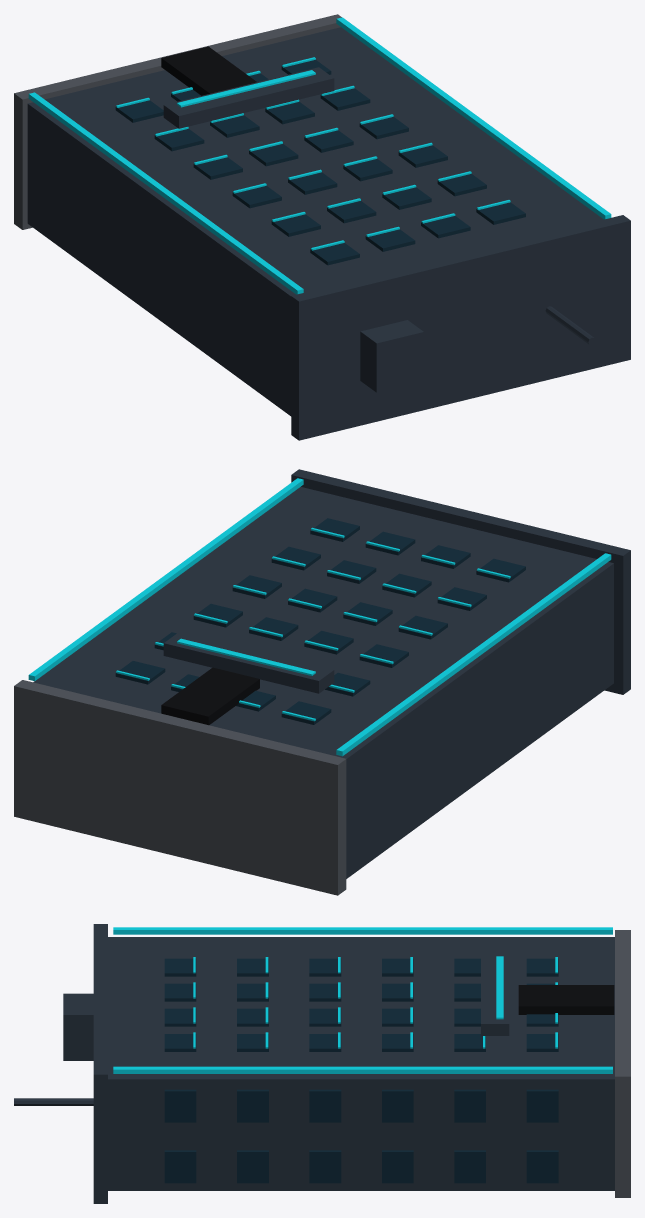
File: ENV_building_arcadia.obj
3 renders of one model, top to bottom at view 1: azimuth 30°, elevation 25°; view 2: azimuth 150°, elevation 25°; view 3: azimuth 270°, elevation 25°, orthographic. The views are drawn at different scales.
Parts seen in each view (by area): view 1: ENV_building_arcadia; view 2: ENV_building_arcadia; view 3: ENV_building_arcadia.
Part boxes in pixels (x1,y1,x2,y2): ENV_building_arcadia: (14,14,630,440); ENV_building_arcadia: (14,469,630,895); ENV_building_arcadia: (14,924,630,1203).
Bounding box in the file's own units: 4.92 × 2.16 × 8.52.
